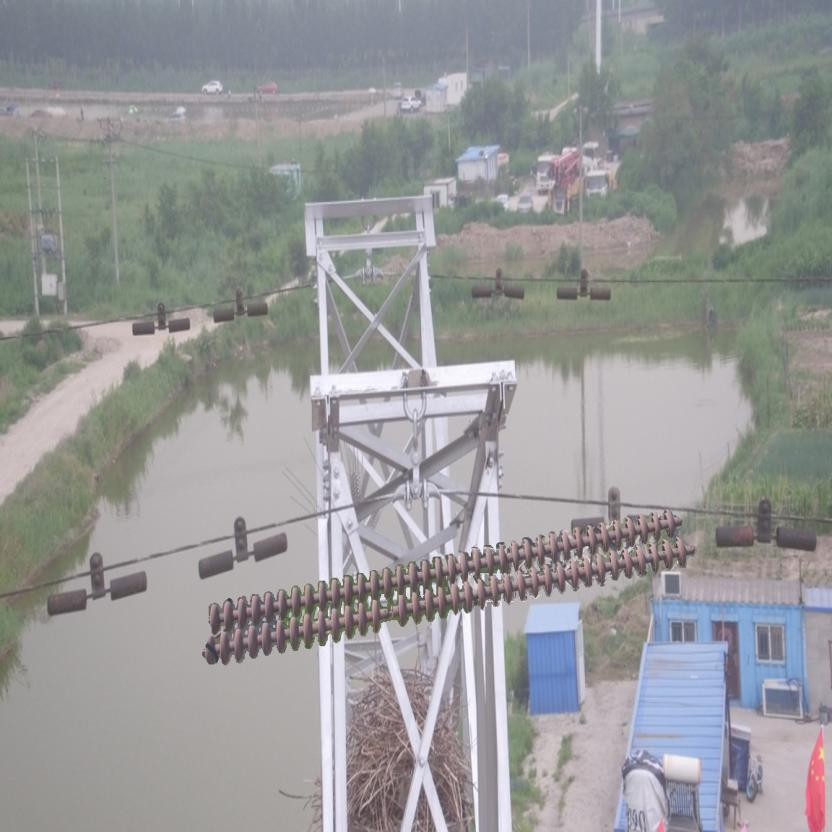defect: (364, 590, 413, 636)
